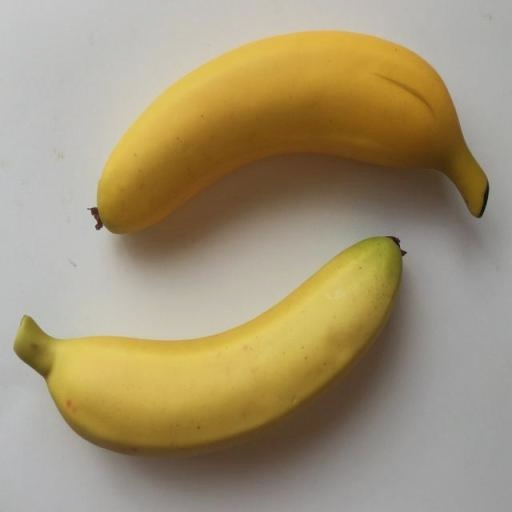fruit: (15, 237, 401, 453), (98, 32, 487, 232)
